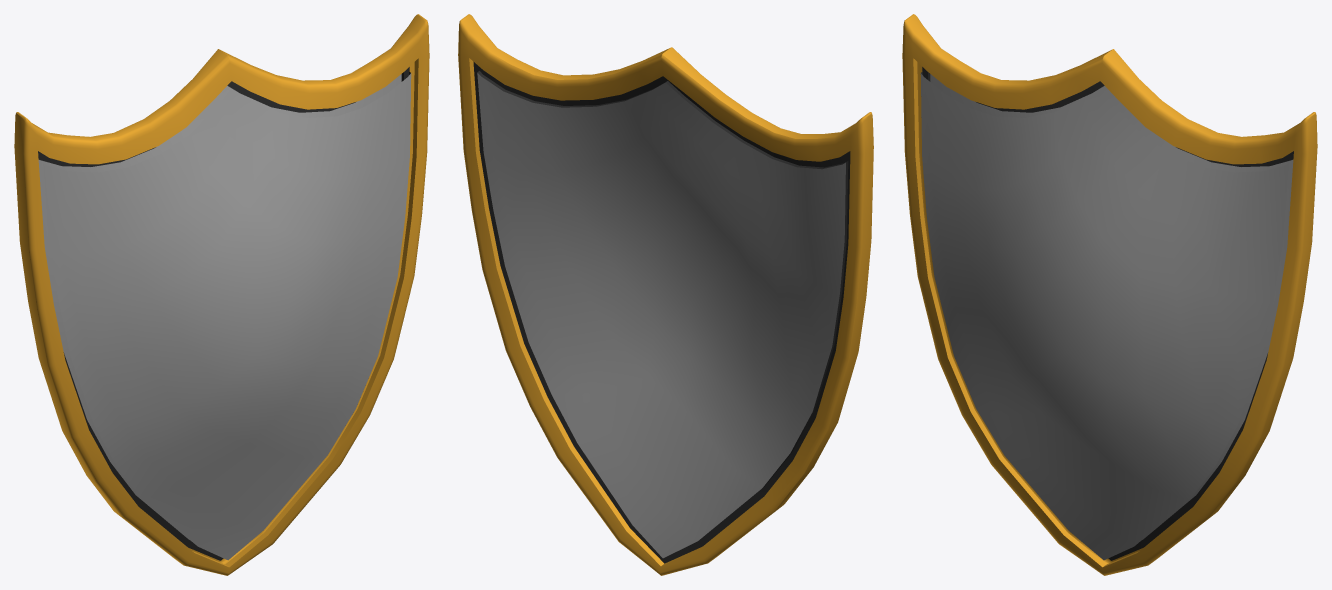
Rendered from CSN3-draco.glb.
3 renders of one model, left to right at view 1: azimuth 30°, elevation 25°; view 2: azimuth 150°, elevation 25°; view 3: azimuth 330°, elevation 25°, orthographic.
Parts seen in each view (by area): view 1: Cube; view 2: Cube; view 3: Cube.
Part boxes in pixels (x1,y1,x2,y2): Cube: (14, 14, 429, 575); Cube: (458, 14, 873, 575); Cube: (902, 14, 1317, 575).
Bounding box in the file's own units: 253 × 311 × 48.95.
